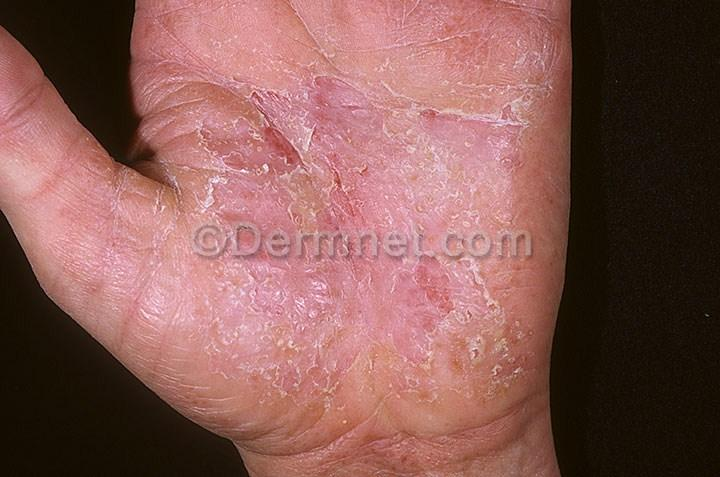Eczema: (227, 84, 335, 207), (199, 207, 321, 309), (391, 90, 495, 201), (307, 61, 399, 186), (412, 206, 488, 333), (318, 272, 412, 374), (114, 258, 216, 352), (220, 298, 321, 385), (71, 201, 187, 274), (482, 91, 555, 206), (414, 28, 532, 98), (270, 363, 364, 448), (325, 181, 410, 274), (184, 90, 254, 191), (85, 160, 186, 230), (217, 28, 325, 92), (473, 300, 543, 397), (362, 380, 435, 473), (150, 18, 225, 100), (510, 0, 577, 86), (416, 325, 486, 405), (327, 2, 400, 68), (70, 265, 127, 333), (421, 0, 510, 35)
